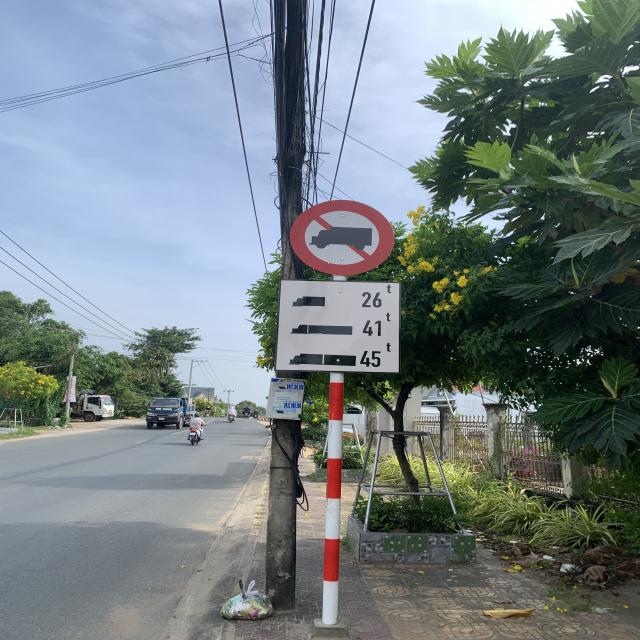Cam_Xe_Tai: (291, 198, 394, 274)
